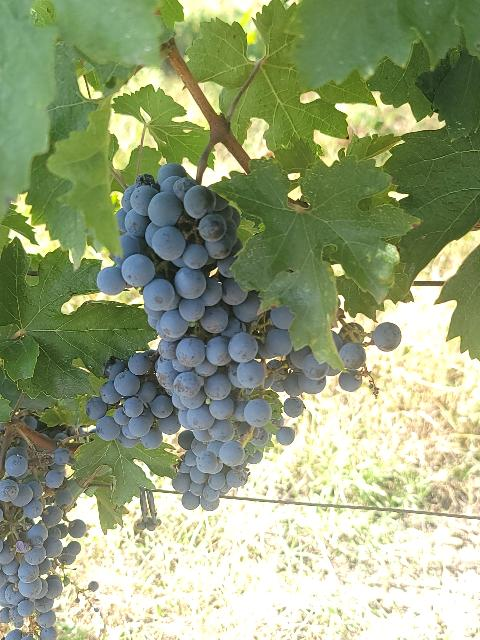grapes: (96, 164, 294, 429), (0, 455, 80, 640)
